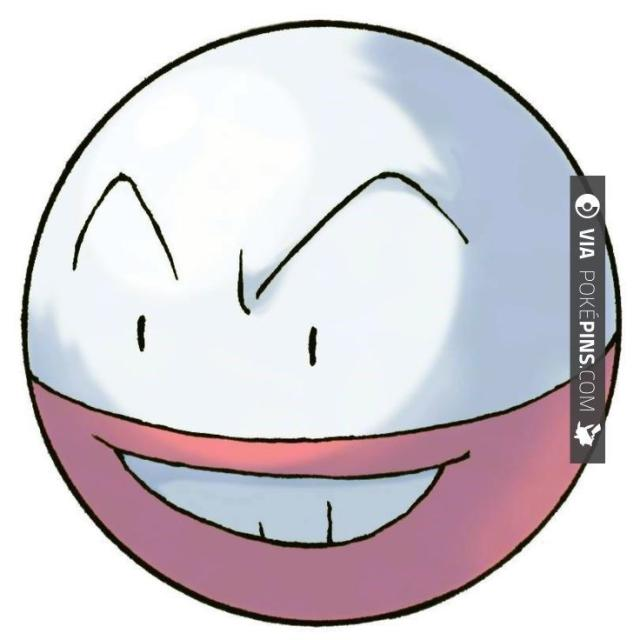Electrode: (18, 18, 614, 632)
